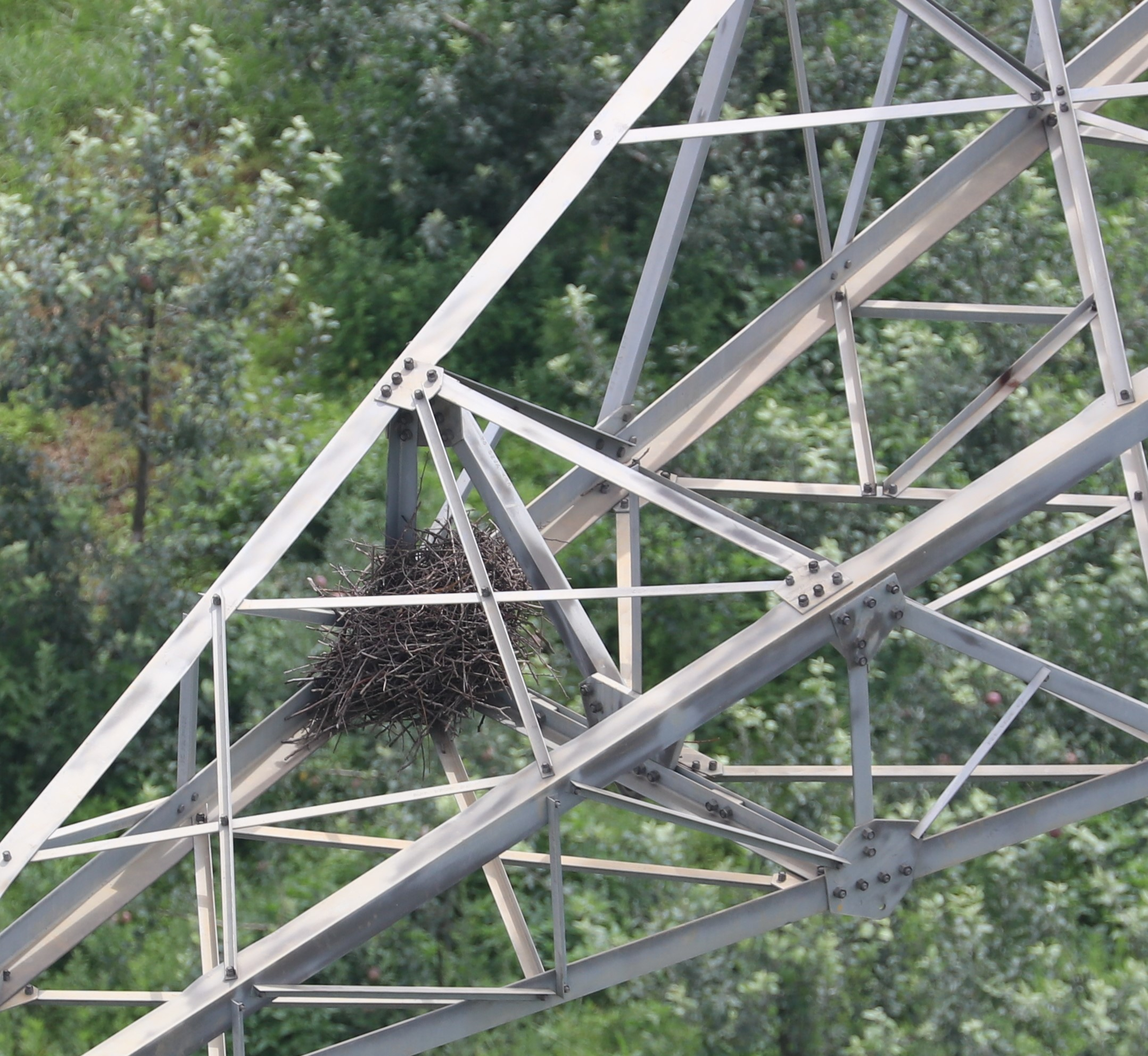nest: (285, 503, 543, 761)
